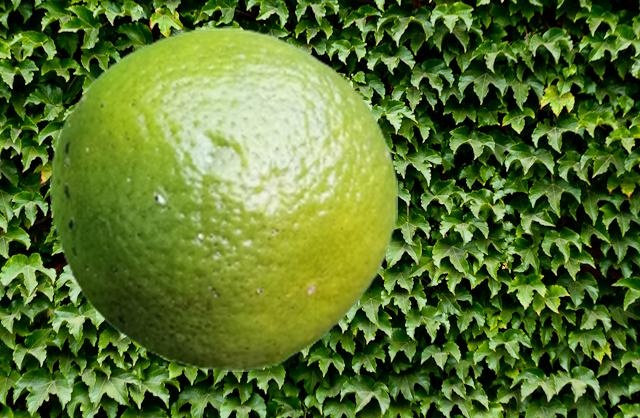calamansi: (50, 26, 396, 370)
